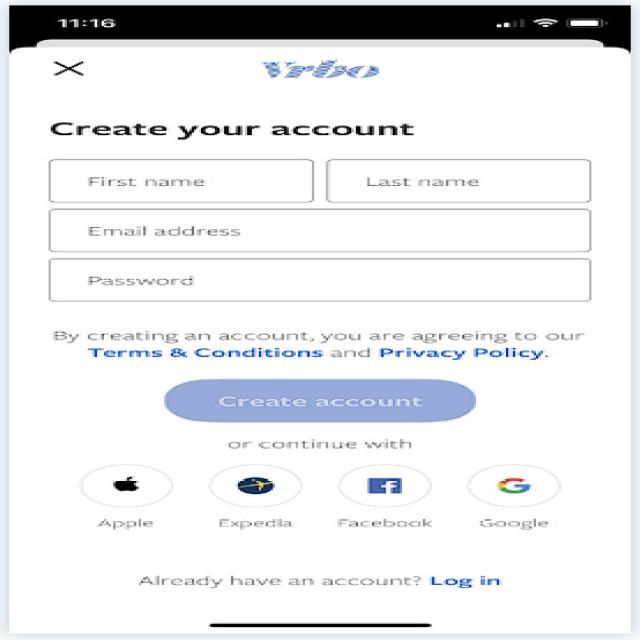button: (148, 372, 491, 430)
icon button: (315, 457, 447, 516), (197, 456, 313, 516), (457, 457, 578, 511), (72, 458, 186, 515)
input: (41, 203, 608, 256), (42, 254, 604, 306), (324, 150, 611, 206), (44, 153, 322, 206)
text: (47, 319, 597, 363), (44, 115, 433, 140)
